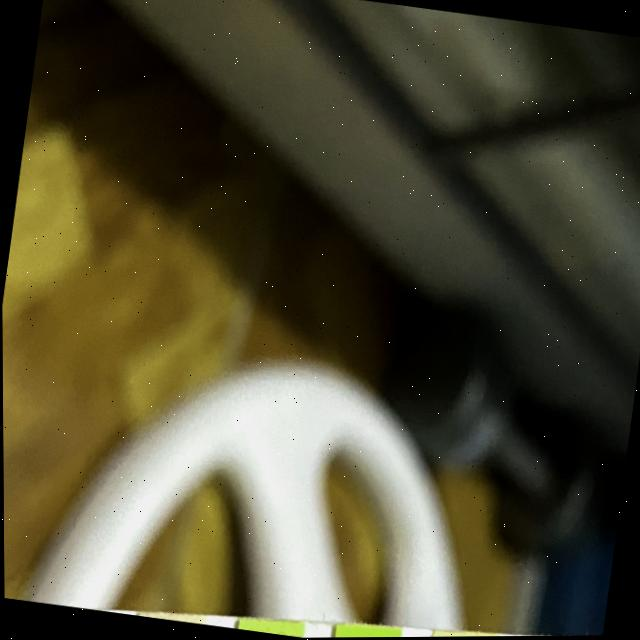Blood: (335, 623, 397, 638)
pH: (432, 630, 497, 638)
